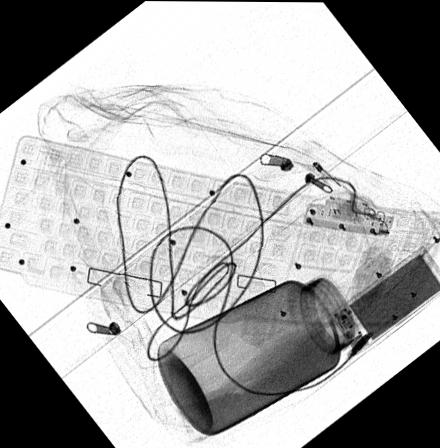Powerbank: (329, 243, 440, 353)
